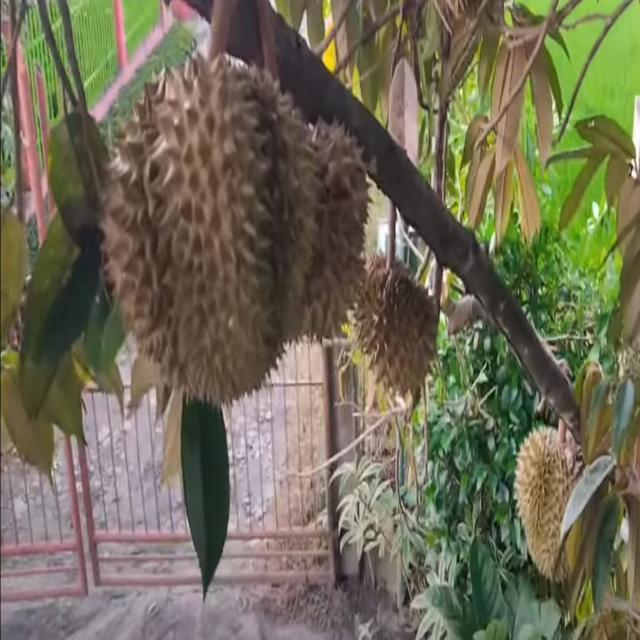mature: (101, 58, 317, 410), (247, 113, 371, 345), (342, 243, 438, 404), (512, 418, 586, 584)
